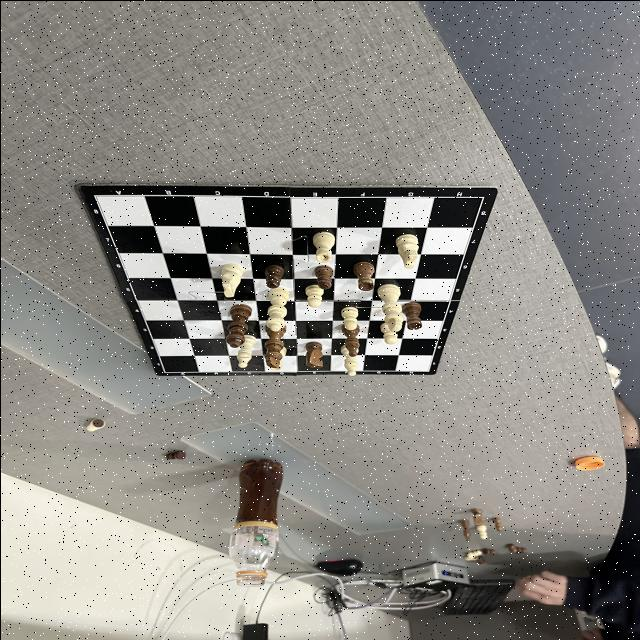Black-Bishop: (341, 323, 358, 356)
Black-King: (262, 323, 286, 367)
Black-Knight: (304, 341, 322, 368)
Black-Pawn: (264, 264, 284, 288), (314, 264, 332, 288)
Black-Queen: (225, 303, 251, 347)
Black-Rook: (352, 261, 374, 291), (400, 301, 420, 329), (269, 346, 285, 370)
White-Bishop: (236, 333, 256, 368), (340, 344, 358, 376)
White-King: (377, 283, 402, 331)
White-Knight: (394, 233, 418, 269), (220, 262, 242, 296)
White-Pawn: (340, 306, 358, 330), (379, 322, 397, 344), (304, 284, 322, 306)
White-Queen: (265, 286, 289, 331)
White-Rook: (312, 230, 334, 262)
